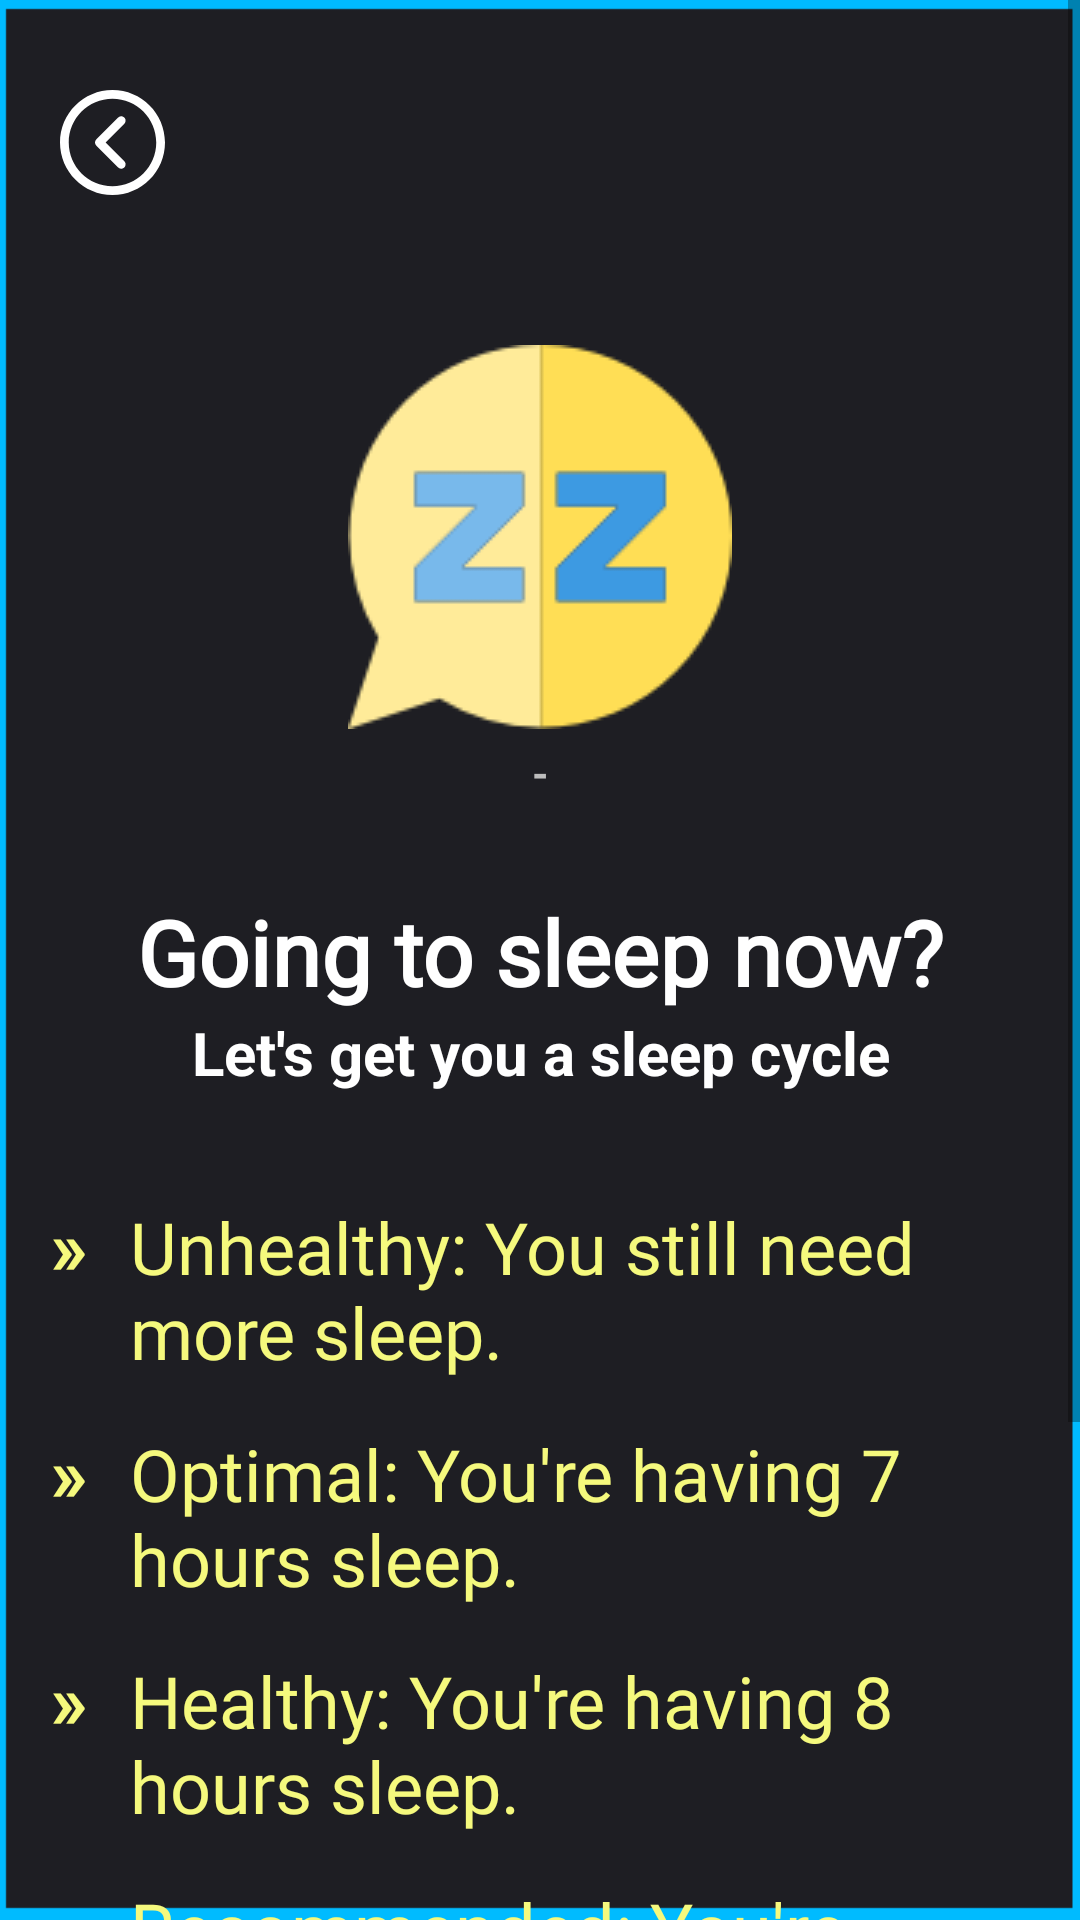

Icon bounding boxes for this 1080*1920 phone screenshot, format (x1, y1, x2, y2):
previous: (60, 90, 165, 195)
